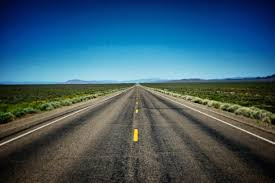strada: (1, 85, 269, 179)
